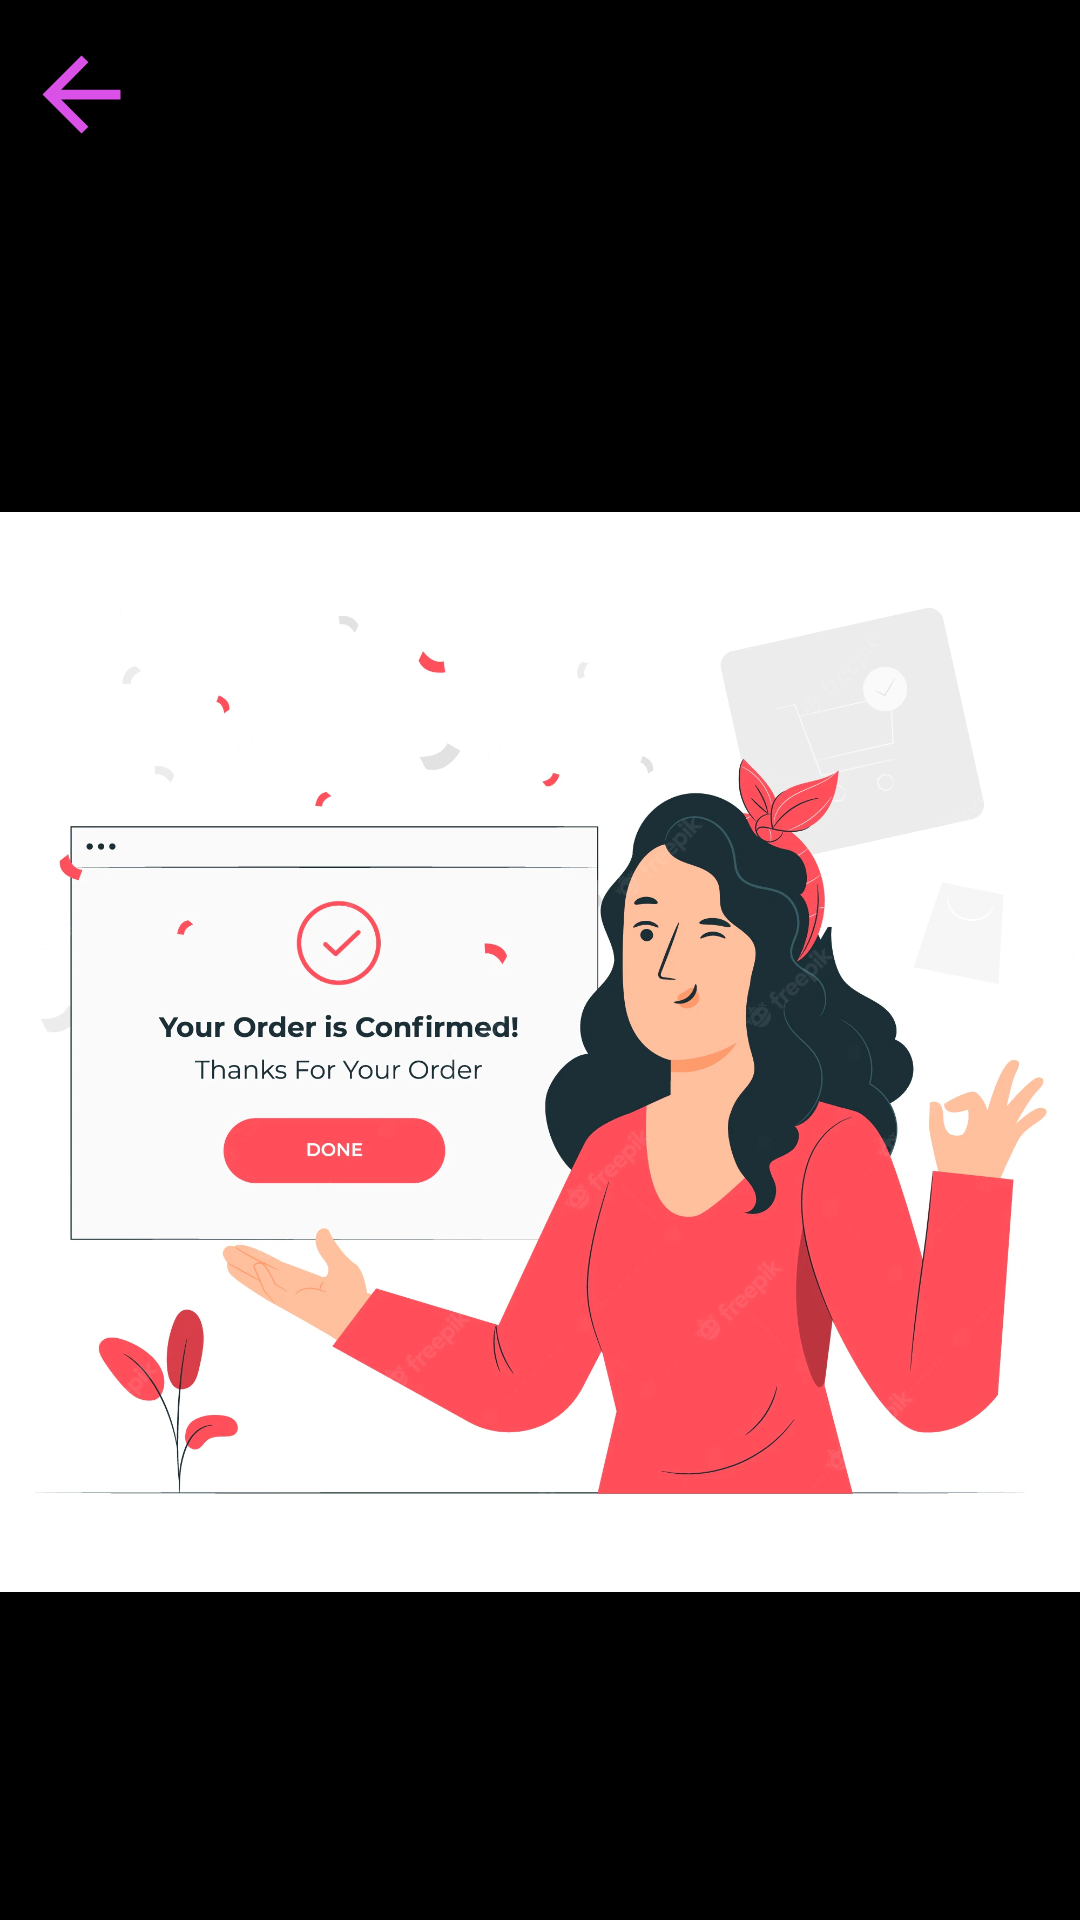

Point at icon controls on the screen. Image size 1080 × 1920, points as [x,y].
back: [81,94]
